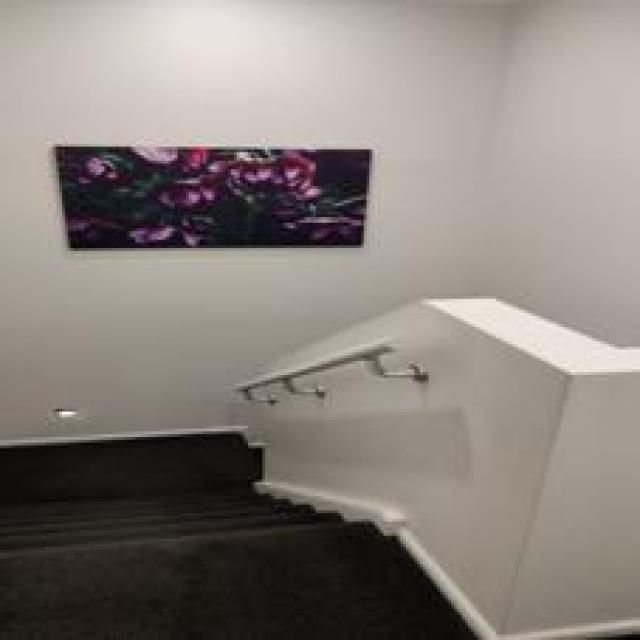downstair: (30, 480, 323, 596)
